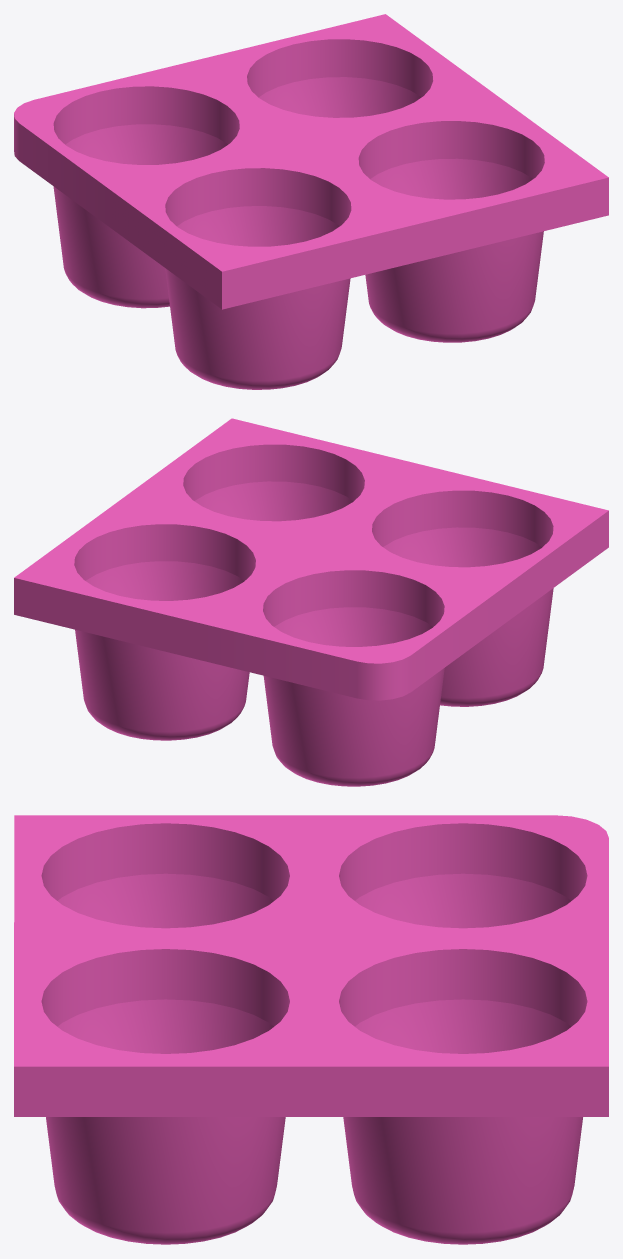
Rendered from Cupcake Tray Sort - Tray 4.fbx.
3 views of the same model, one above another, from view 1: azimuth 30°, elevation 25°; view 2: azimuth 150°, elevation 25°; view 3: azimuth 270°, elevation 25° (orthographic). The views are drawn at different scales.
Parts seen in each view (by area): view 1: tray 4; view 2: tray 4; view 3: tray 4.
Boxes of the visible parts, x1,y1,x2,y2 form: tray 4: (14, 14, 608, 389); tray 4: (14, 418, 608, 786); tray 4: (14, 815, 608, 1244).
Size of the model in its own units: 0.0934 by 0.0934 by 0.0357.
